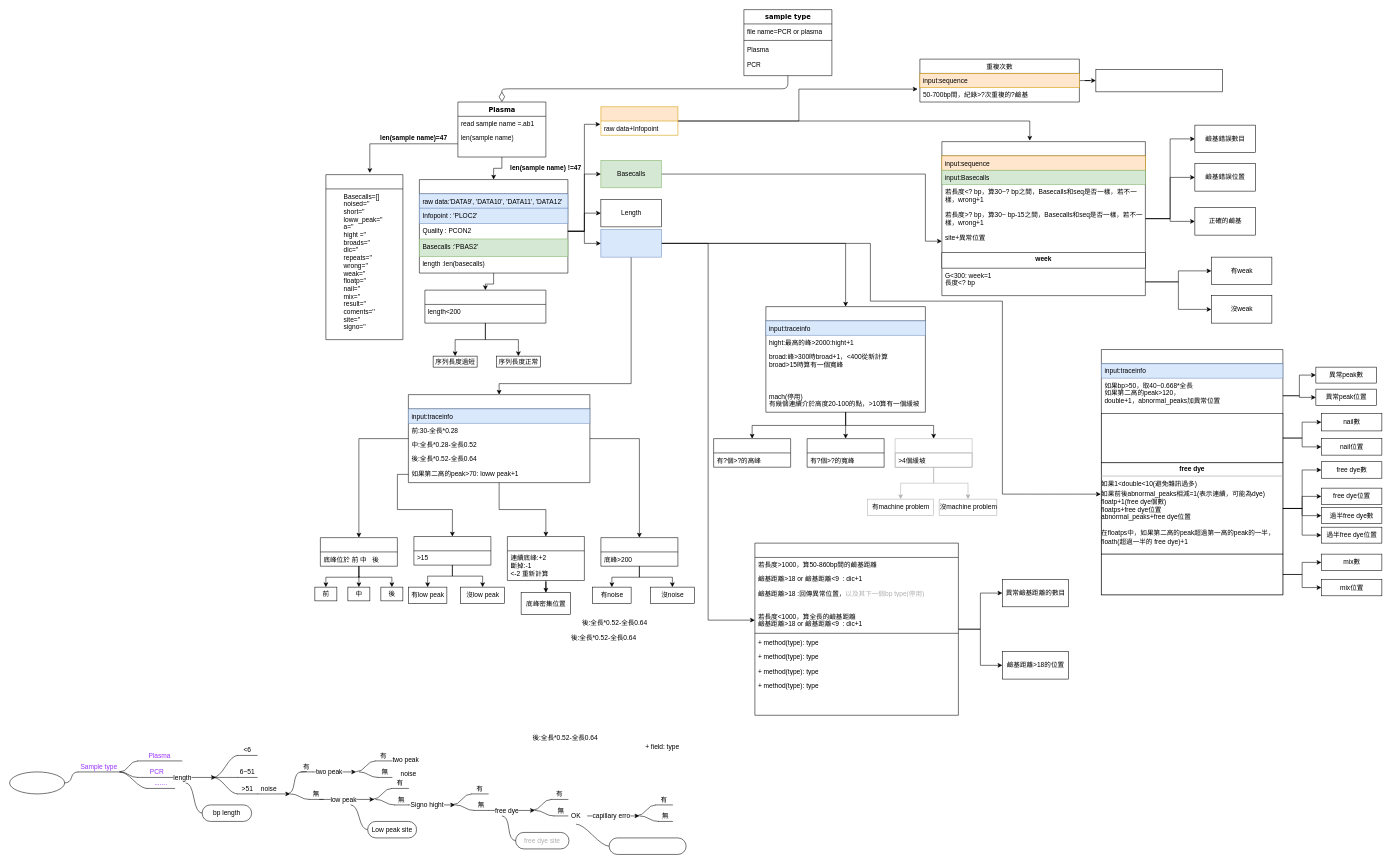
The diagram is 1392 pixels wide and 864 high, and some of its shapes have lost their labels. The shapes that lost their labels are listed below. From the top down, each one's box as (x1, y1, x2, y2) in pixels, then its label:
(1095, 69, 1222, 92): 重複重複有幾個連續超過?次的鹼基
(600, 106, 678, 135): sequence
(419, 179, 568, 273): Classname
(941, 141, 1145, 296): wrong_bp(判斷錯誤鹼基)
(325, 174, 403, 340): NULL
(600, 229, 661, 257): traceinfo
(424, 290, 546, 323): 序列過短
(765, 306, 925, 412): peak_hb(峰的高，寬)
(408, 394, 590, 483): low_peak(底峰)
(713, 438, 791, 467): 高峰
(807, 438, 884, 467): 寬峰
(895, 438, 972, 467): machine problem
(1101, 413, 1283, 463): nail 如果1<double<10(避免雜訊過多) 第三高的>90:nail+1 abnormal_peaks+nail位置
(1101, 349, 1283, 595): double_peak
(320, 537, 397, 566): 底峰位置
(413, 536, 491, 565): 底峰數目
(507, 536, 584, 581): 底峰密集區
(600, 537, 678, 566): noised
(1101, 554, 1283, 595): mix mix=double-nail-free dye abnormal_peaks+mix位置
(754, 543, 958, 715): base_pair_dic(判斷是鹼基距離)
(9, 771, 65, 794): Excel
(609, 837, 686, 854): wrong/miss bp site
